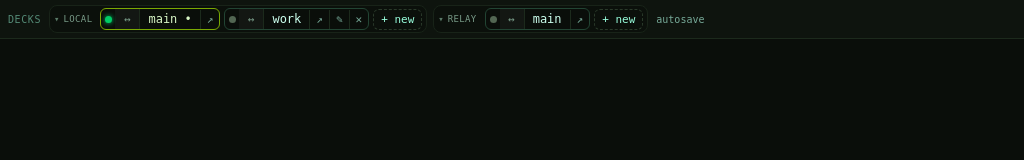
Scenario: regressions: navigate / popout / new still wired › cancels a pending new-deck draft when its owner group is collapsed
Click the 1st button with class "nc-deck-newbtn". click: (398,19)
box: [373,8,422,30]
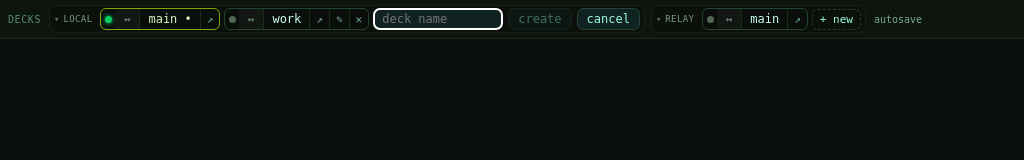
Type "draft deck" into the field with placeholder "deck name". click: (438,19)
box: [373,8,503,30]
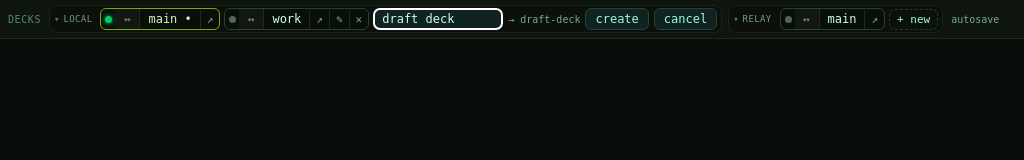
Click the button "▾ Local". click: (74,19)
box: [52,14,96,24]
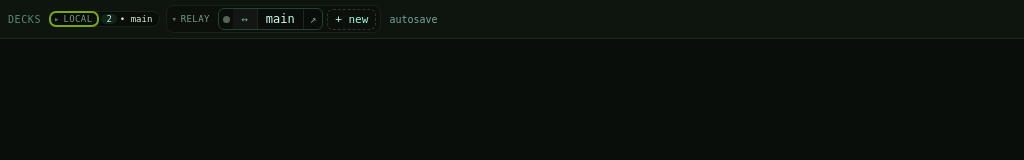
Expected: the button "▸ Local" is collapsed
Click the button "▸ Local". click: (74,19)
box: [52,14,96,24]
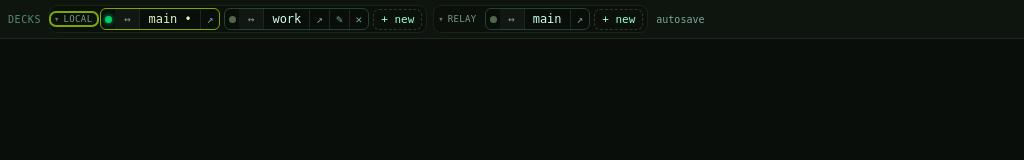
Expected: the 1st button with class "nc-deck-newbtn" is shown, [373,8,422,30]
